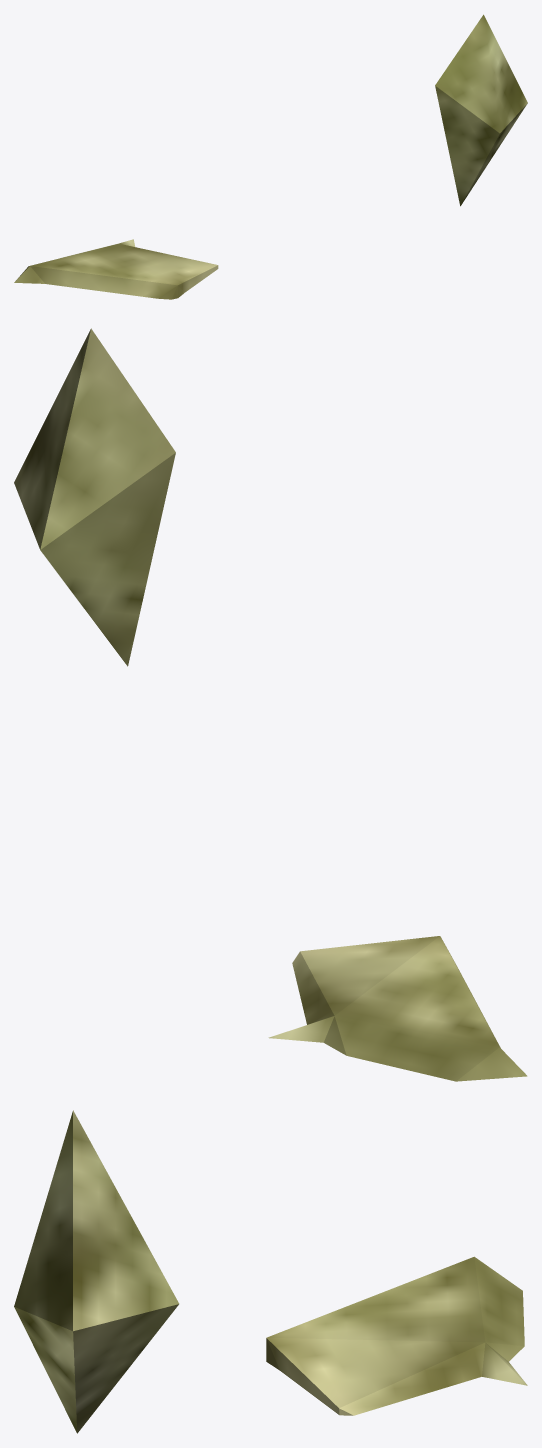
3 renders of one model, top to bottom at view 1: azimuth 30°, elevation 25°; view 2: azimuth 150°, elevation 25°; view 3: azimuth 270°, elevation 25°, orthographic. The views are drawn at different scales.
Bounding box in the file's own units: 0.4967 × 0.3062 × 0.2991.
Materials: 1 (1 with a texture image).
